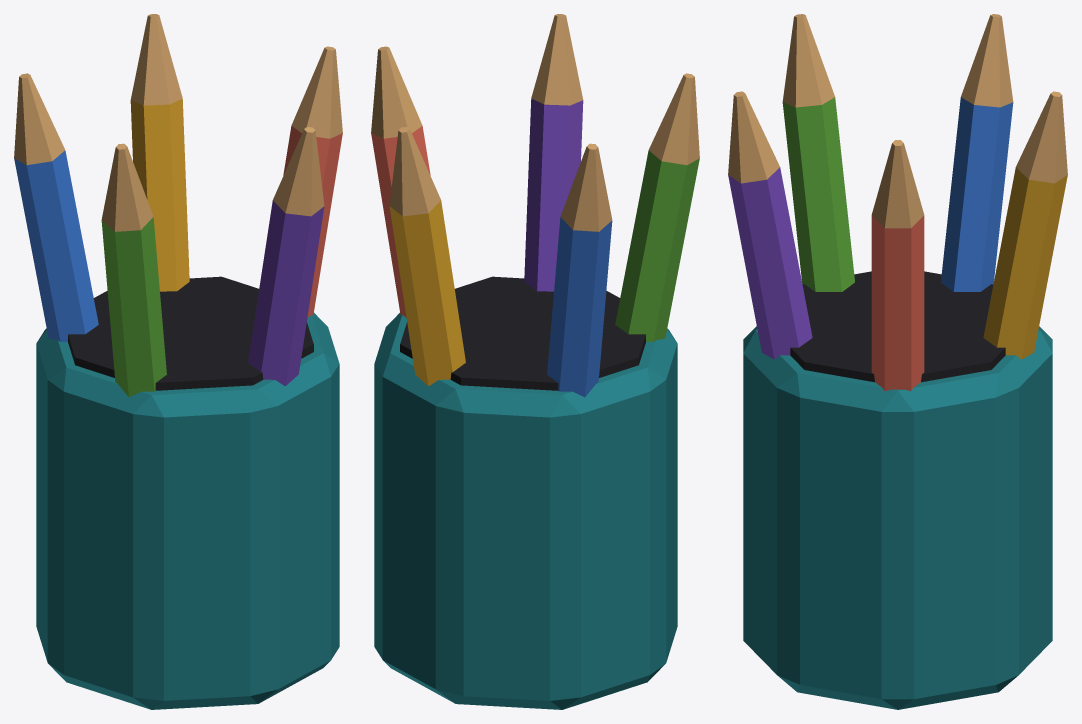
File: pencil_cup.glb
3 renders of one model, left to right at view 1: azimuth 30°, elevation 25°; view 2: azimuth 150°, elevation 25°; view 3: azimuth 270°, elevation 25°, orthographic.
Visible parts, largest first — view 1: pencil_cup; view 2: pencil_cup; view 3: pencil_cup.
Boxes of the visible parts, box(x1,y1,x2,y2) form: pencil_cup: box(14, 14, 342, 709); pencil_cup: box(371, 14, 699, 709); pencil_cup: box(728, 14, 1067, 709).
Bounding box in the file's own units: 0.1119 × 0.2173 × 0.1158.
